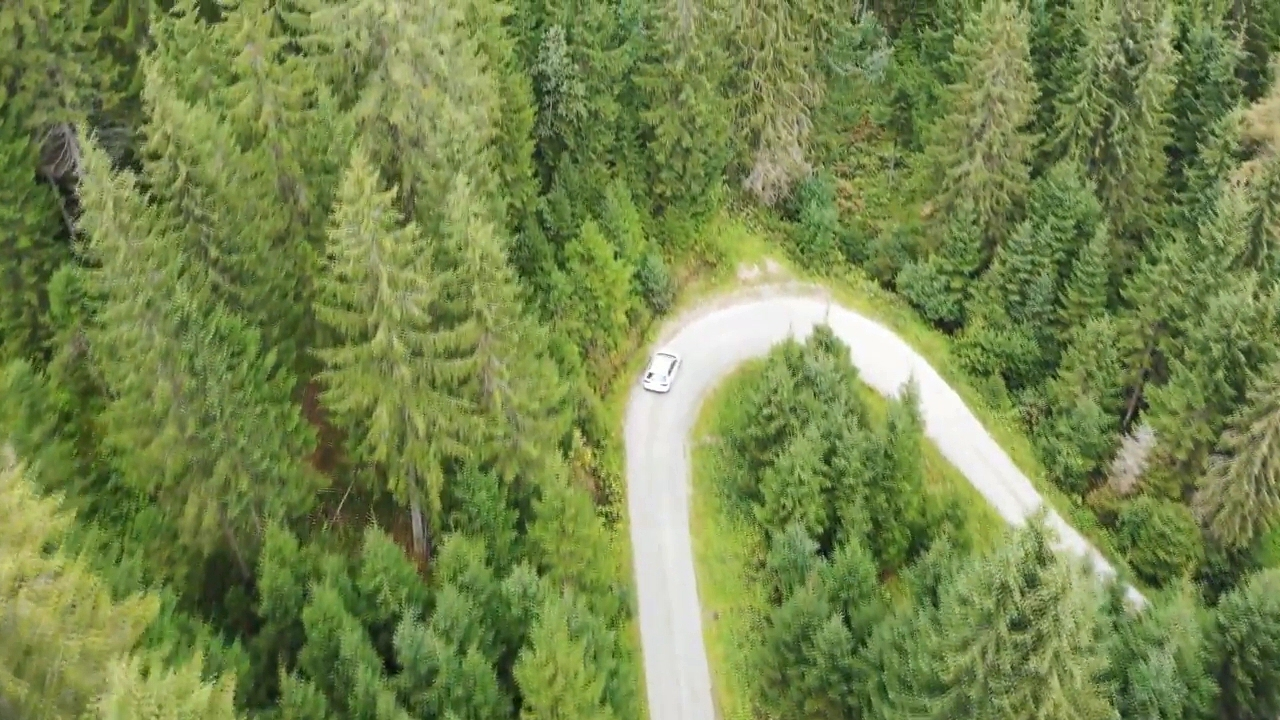araba: (645, 350, 683, 393)
